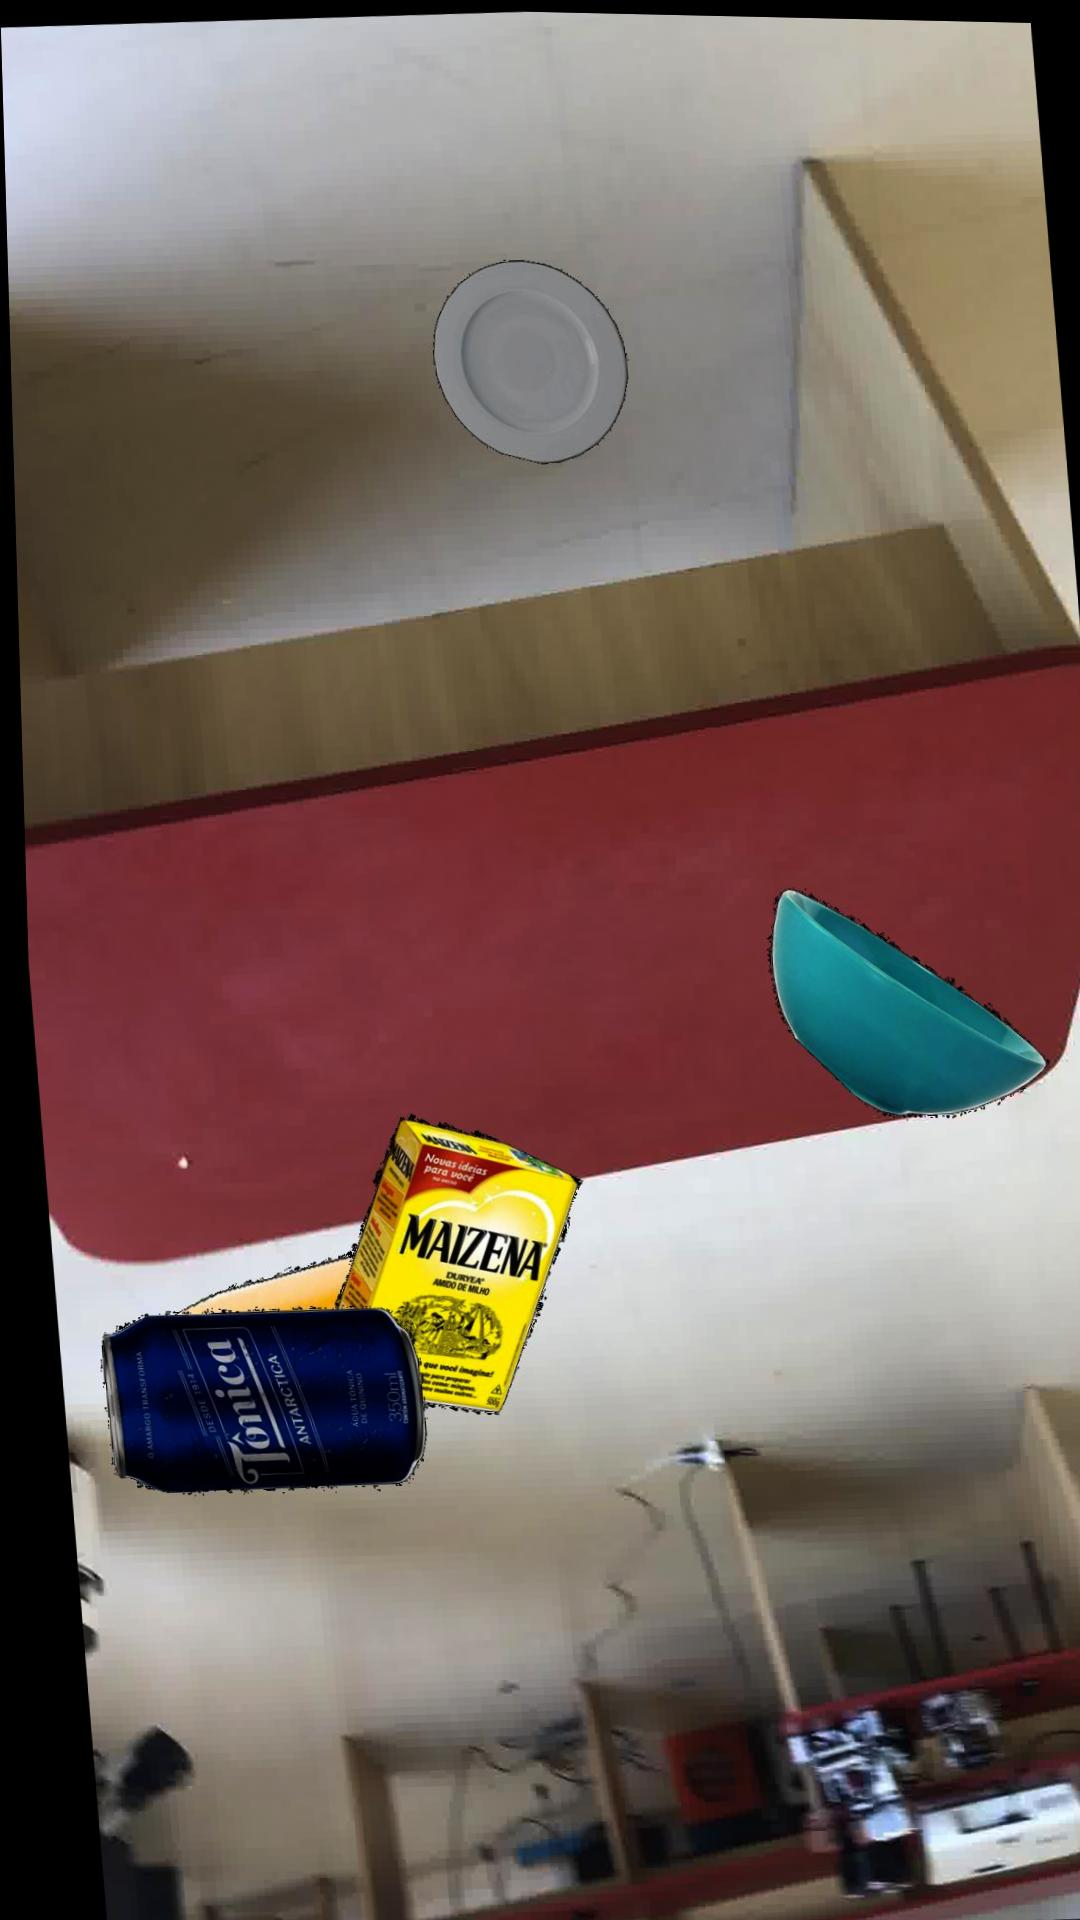bowl: (760, 886, 1042, 1114)
plate: (429, 258, 624, 463)
sponge: (165, 1254, 344, 1315)
tonic: (91, 1307, 415, 1495)
